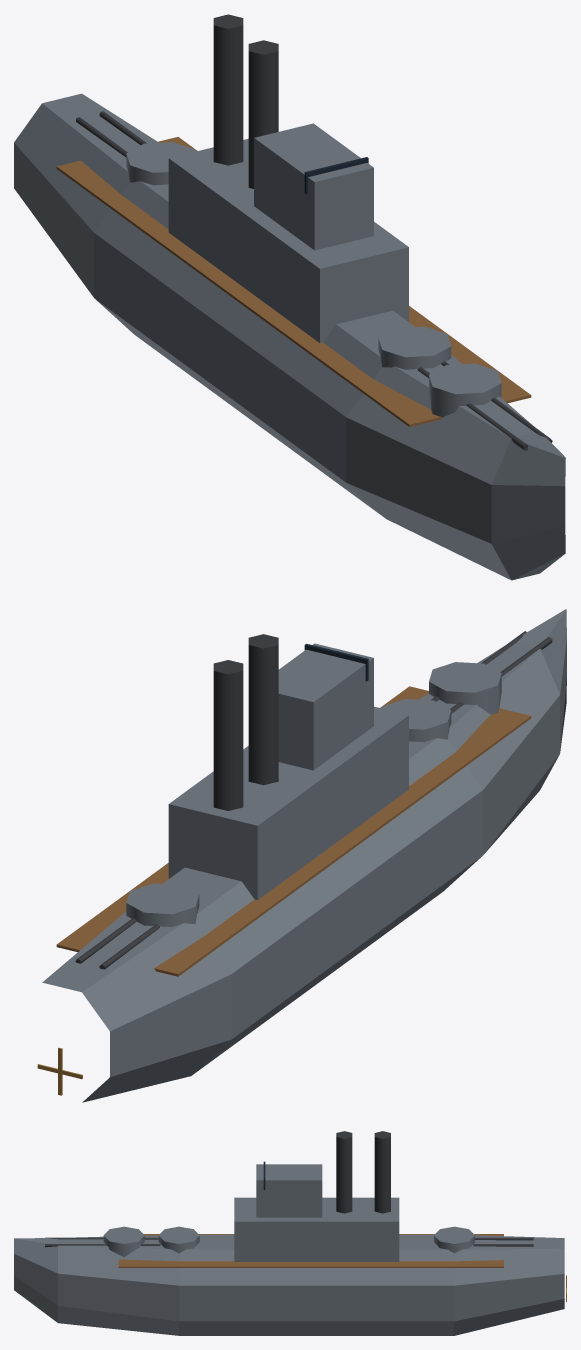
The model's file is veh_naval_warship_a06.glb.
3 renders of one model, top to bottom at view 1: azimuth 30°, elevation 25°; view 2: azimuth 150°, elevation 25°; view 3: azimuth 270°, elevation 25°, orthographic. The views are drawn at different scales.
Visible parts, largest first — view 1: body, turret_0, turret_1, turret_2; view 2: body, turret_2, turret_0, turret_1; view 3: body, turret_2, turret_0, turret_1.
Part boxes in pixels (x1=…): body: x1=14, y1=14, x2=565, y2=580; turret_0: x1=429, y1=363, x2=552, y2=450; turret_1: x1=378, y1=326, x2=499, y2=406; turret_2: x1=76, y1=111, x2=195, y2=185; body: x1=42, y1=609, x2=566, y2=1102; turret_2: x1=75, y1=883, x2=199, y2=969; turret_0: x1=429, y1=631, x2=552, y2=714; turret_1: x1=382, y1=696, x2=464, y2=742; body: x1=14, y1=1131, x2=564, y2=1335; turret_2: x1=434, y1=1226, x2=533, y2=1253; turret_0: x1=45, y1=1226, x2=144, y2=1257; turret_1: x1=101, y1=1226, x2=199, y2=1253.
Size of what is drawn, in the model's own units: 4.55 by 11.23 by 29.1.
